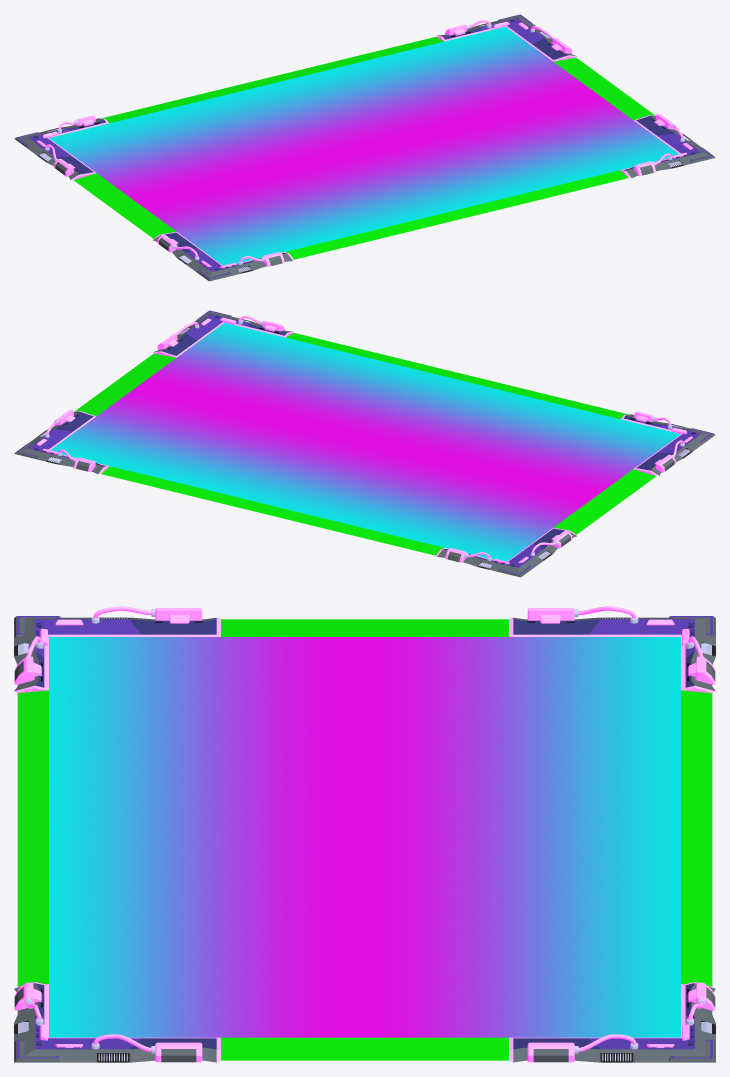
Rendered from NFT_basic_12x8.fbx.
3 renders of one model, top to bottom at view 1: azimuth 30°, elevation 25°; view 2: azimuth 150°, elevation 25°; view 3: azimuth 270°, elevation 25°, orthographic. The views are drawn at different scales.
Parts seen in each view (by area): view 1: _screen_low1, walkways, nft_frame3b_corner6 (×4); view 2: _screen_low1, walkways, nft_frame3b_corner6 (×4); view 3: _screen_low1, walkways, nft_frame3b_corner6 (×4), pCube237 (×2).
Part boxes in pixels (bbox=[...]): _screen_low1: bbox=[49, 26, 678, 265]; walkways: bbox=[74, 37, 655, 259]; nft_frame3b_corner6 (×4): bbox=[14, 16, 715, 281]; _screen_low1: bbox=[51, 322, 680, 561]; walkways: bbox=[74, 333, 655, 555]; nft_frame3b_corner6 (×4): bbox=[14, 312, 715, 577]; _screen_low1: bbox=[49, 637, 680, 1037]; walkways: bbox=[17, 619, 712, 1060]; nft_frame3b_corner6 (×4): bbox=[14, 617, 715, 1062]; pCube237 (×2): bbox=[155, 1042, 574, 1062].
Size of the model in its own units: 472 by 9.59 by 315.
10 materials, 1 textured.
